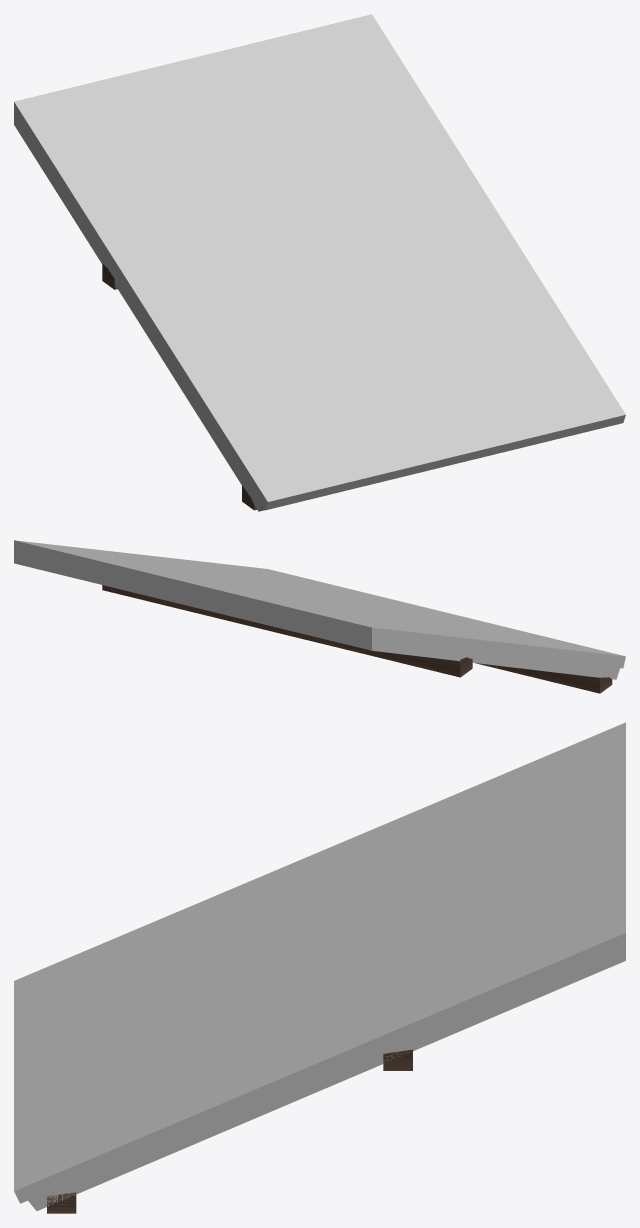
Rendered from kawara_1x2t_a1middle.fbx.
3 views of the same model, one above another, from view 1: azimuth 30°, elevation 25°; view 2: azimuth 150°, elevation 25°; view 3: azimuth 270°, elevation 25° (orthographic). The views are drawn at different scales.
Visible parts, largest first — view 1: kawara_1x2t_a1middle; view 2: kawara_1x2t_a1middle; view 3: kawara_1x2t_a1middle.
Boxes of the visible parts, x1,y1,x2,y2 form: kawara_1x2t_a1middle: [14, 14, 625, 511]; kawara_1x2t_a1middle: [14, 540, 625, 693]; kawara_1x2t_a1middle: [14, 722, 625, 1213].
Size of the model in its own units: 220 by 137 by 270.
